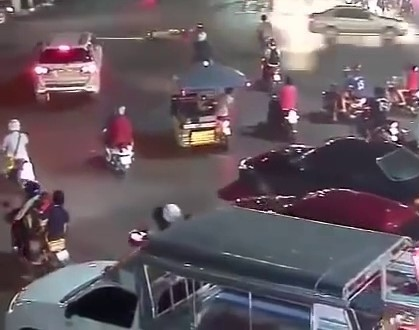car: (15, 205, 419, 329), (244, 136, 419, 215), (31, 33, 101, 107)
motorbike: (6, 182, 72, 272), (101, 105, 134, 183), (320, 64, 364, 122), (3, 119, 38, 186), (357, 89, 400, 143), (380, 65, 419, 116), (269, 78, 299, 143), (262, 38, 283, 92), (259, 13, 277, 56)
